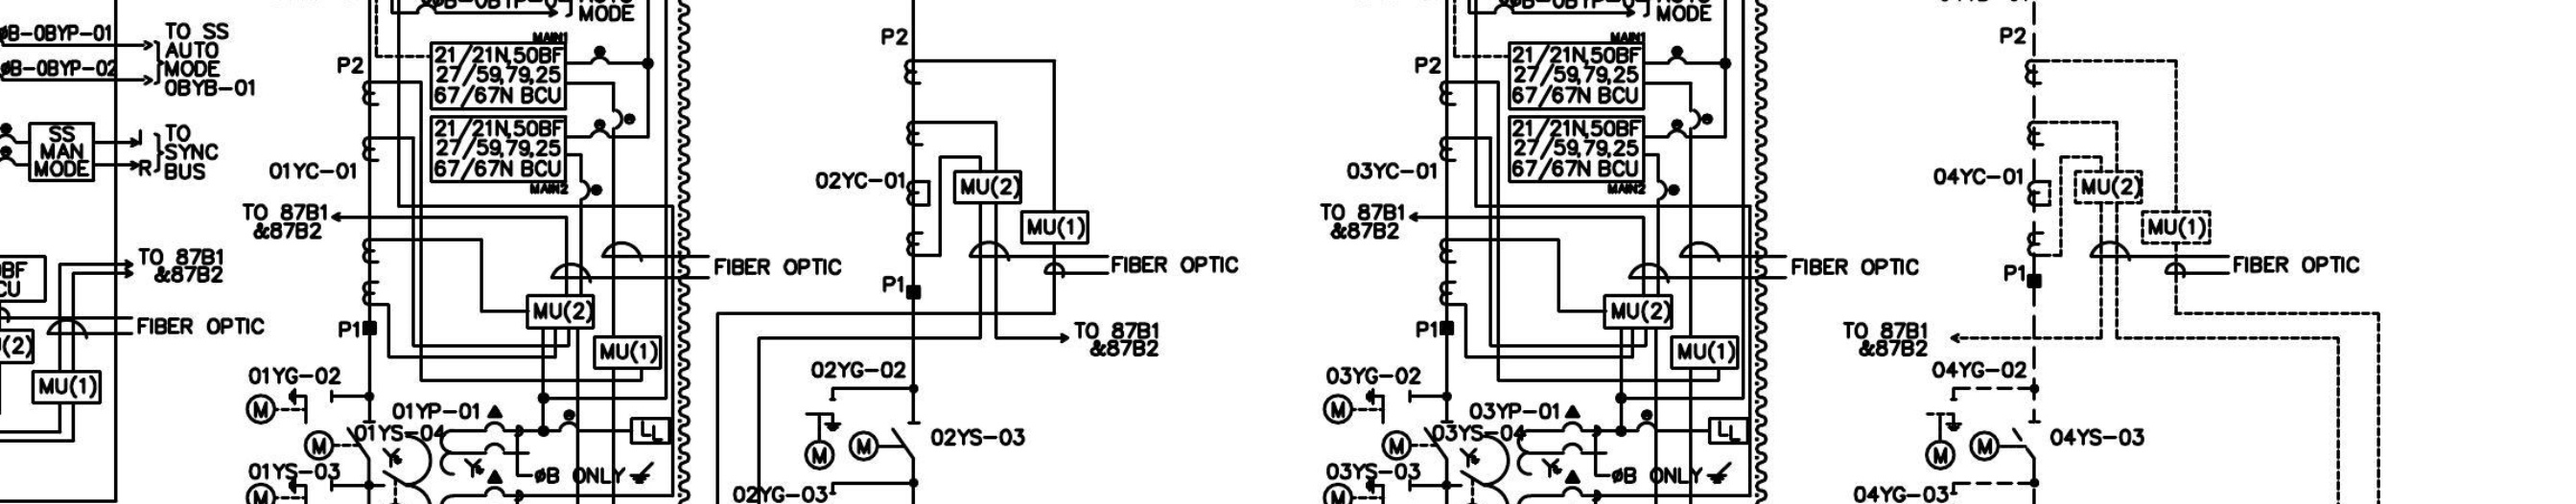115_1way_ds_w_motor: (1380, 420, 1455, 463), (302, 420, 377, 462), (847, 421, 922, 463)
115_gs_w_motor: (1322, 387, 1413, 425), (245, 387, 334, 425), (804, 398, 842, 471)
LL: (1707, 416, 1750, 446), (629, 417, 671, 446)
MU: (526, 293, 596, 331), (1603, 293, 1674, 330), (1670, 334, 1740, 371), (31, 370, 102, 405), (592, 335, 663, 371), (952, 170, 1023, 205), (1019, 210, 1090, 245)
ss_man_mode: (28, 122, 96, 183)
